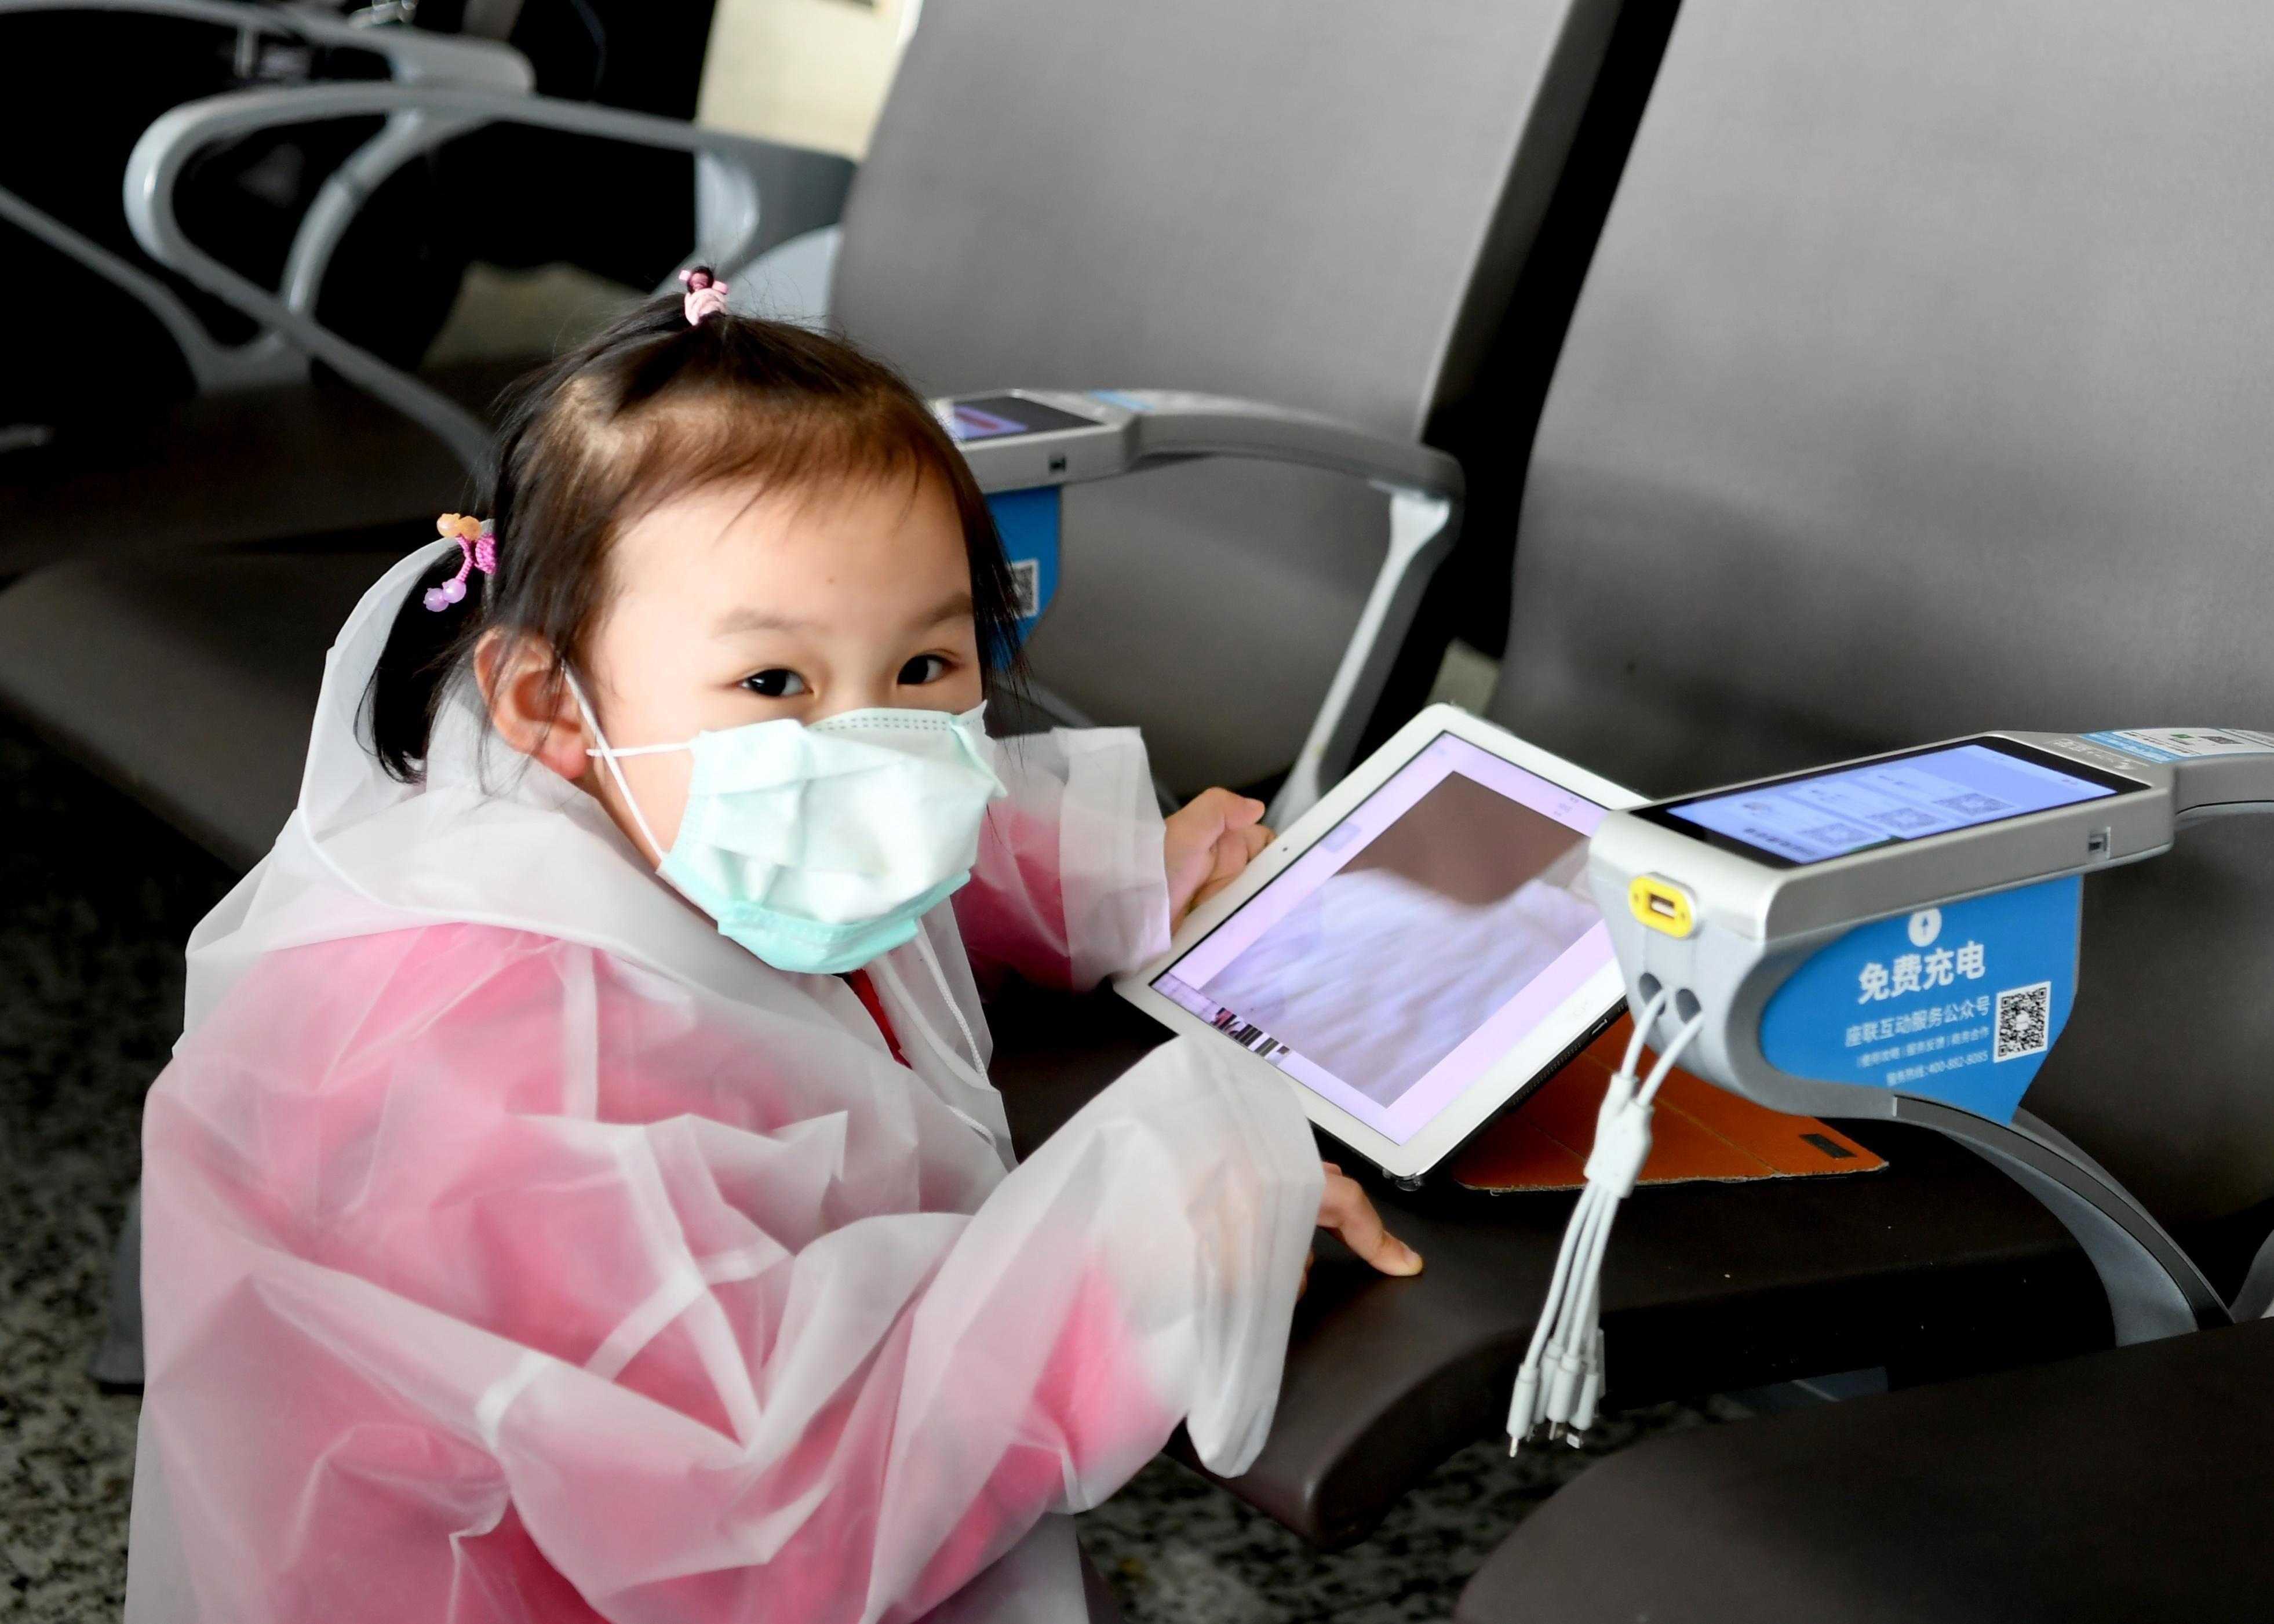face_with_mask: (450, 443, 1027, 1029)
